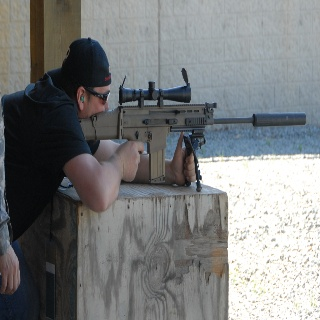rifle: (77, 66, 309, 192)
